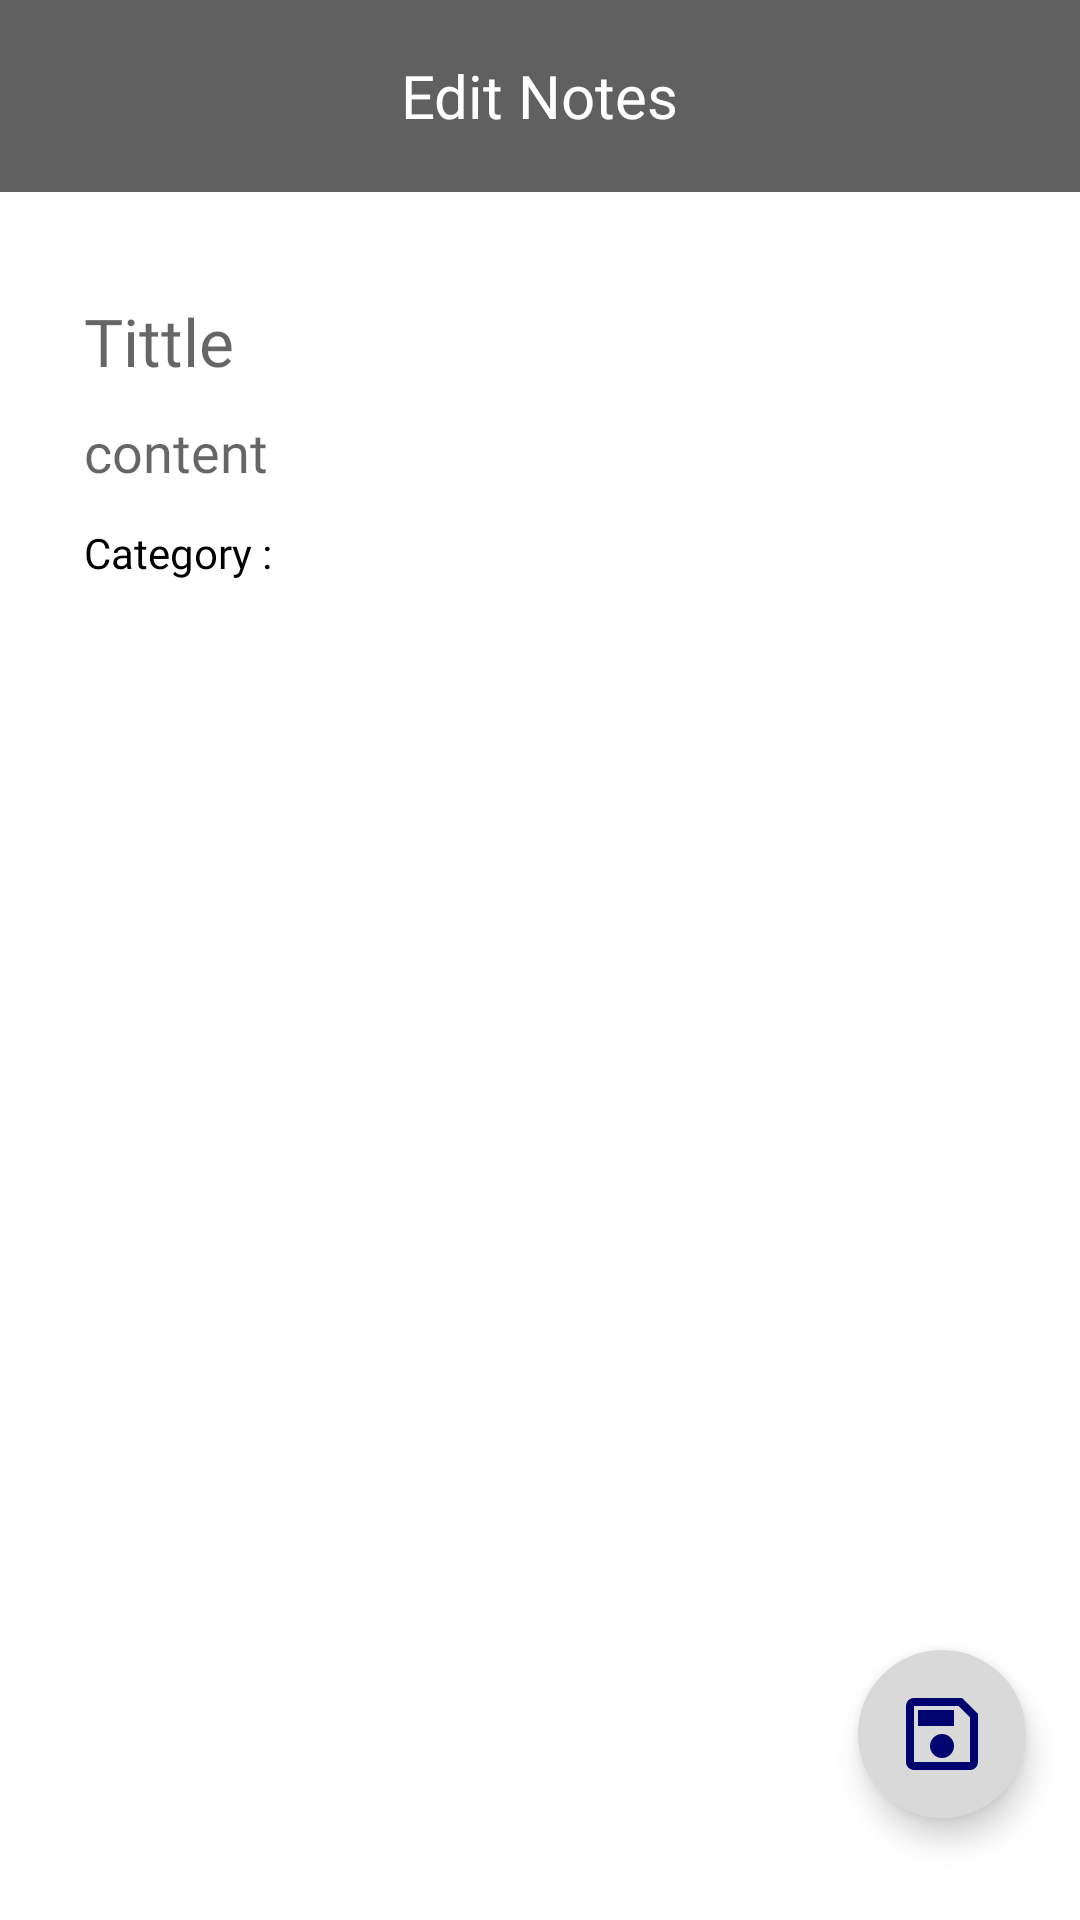

Named icons in this screenshot (1080w x 1920h) and their centers, [x,y]:
save: [942,1734]
